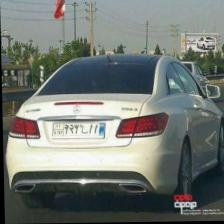plate: (51, 122, 107, 138)
